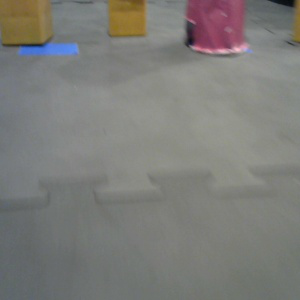Right: (185, 1, 249, 55)
